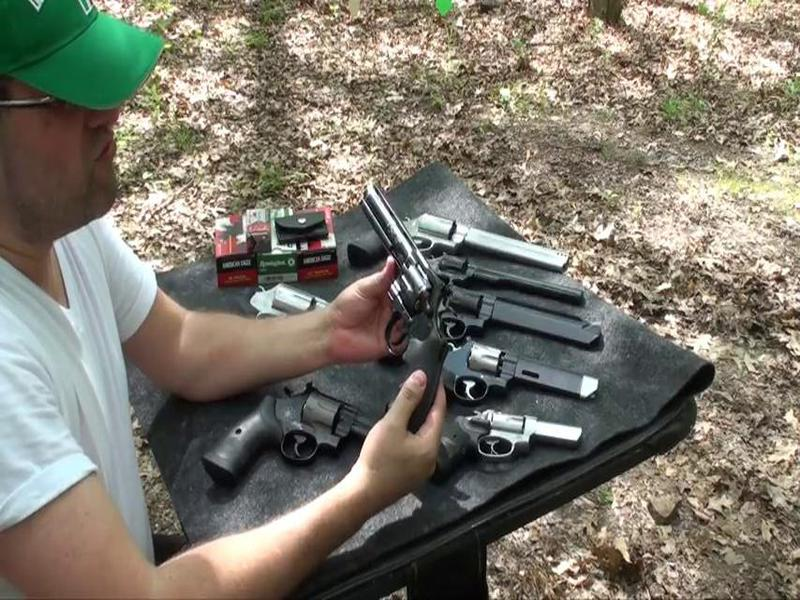Revolver: (345, 166, 496, 468)
